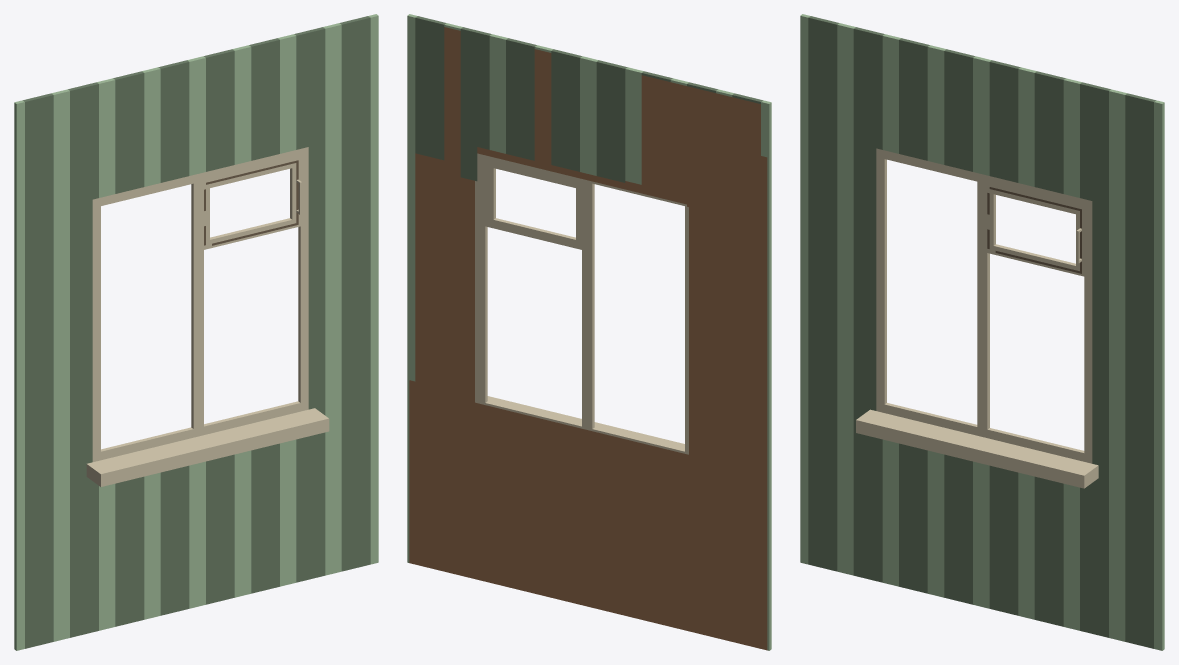
The model's file is kids_window.obj.
The picture shows the model from 3 angles, left to right: view 1: azimuth 30°, elevation 25°; view 2: azimuth 150°, elevation 25°; view 3: azimuth 330°, elevation 25°; orthographic projection.
Size of the model in its own units: 17.6 by 25.4 by 1.4.
1 material, 1 textured.
